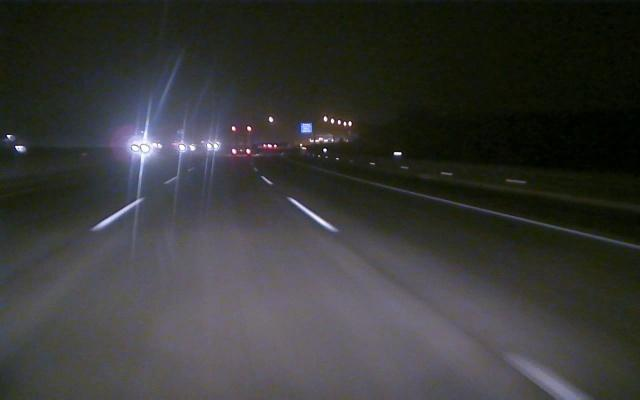lane: (262, 177, 593, 400), (361, 179, 637, 251), (1, 201, 137, 292), (92, 201, 136, 229)
